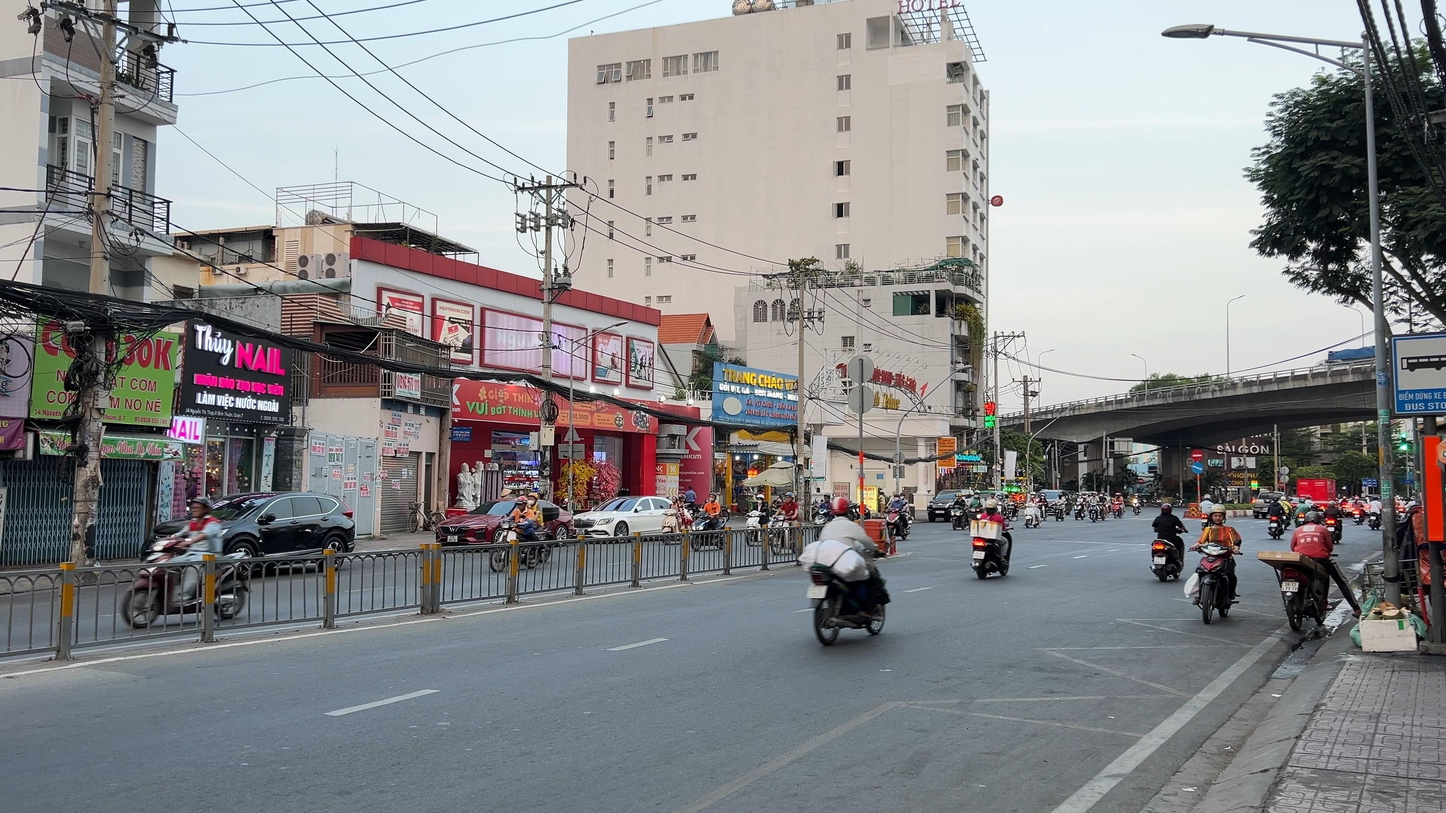driver: (119, 496, 252, 629), (798, 496, 894, 645), (1257, 511, 1361, 632), (1184, 503, 1243, 625), (489, 496, 541, 573), (969, 499, 1018, 580), (1150, 503, 1190, 582), (771, 492, 805, 556), (690, 492, 726, 551), (660, 494, 693, 545), (882, 492, 914, 542), (744, 494, 774, 547), (1324, 500, 1345, 545), (1267, 495, 1285, 540), (1022, 491, 1042, 528), (1367, 496, 1382, 530)
helmet: (190, 496, 211, 519), (1209, 503, 1227, 526), (832, 497, 850, 516), (1305, 511, 1321, 525), (985, 499, 997, 513), (1161, 503, 1172, 514), (784, 492, 794, 504), (756, 494, 765, 505), (709, 492, 717, 502), (1328, 500, 1335, 507), (1204, 494, 1211, 500), (1273, 495, 1279, 502), (1300, 497, 1306, 504), (1281, 496, 1286, 501)
